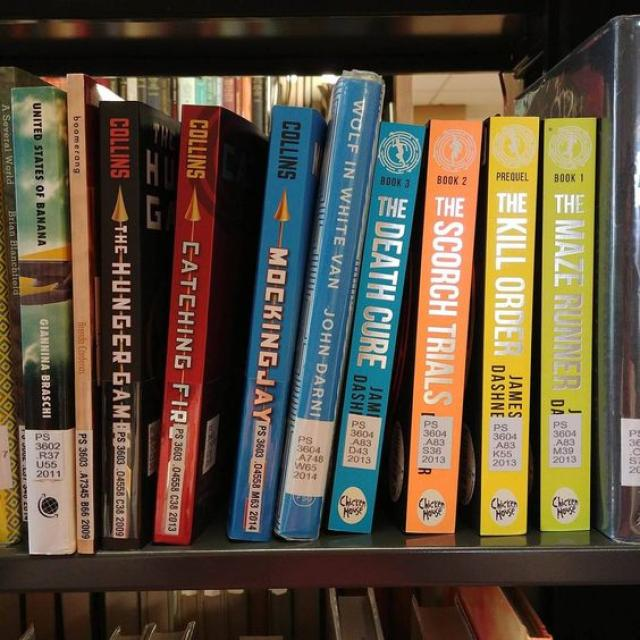book: (278, 76, 382, 542), (329, 121, 425, 532), (230, 106, 312, 542), (406, 119, 481, 532), (154, 106, 220, 544), (11, 86, 72, 554), (481, 116, 539, 535), (539, 118, 595, 530), (99, 100, 141, 550), (65, 72, 95, 553)
